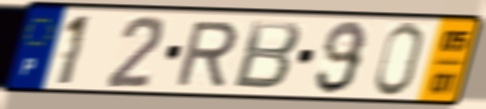0: (372, 19, 426, 99)
1: (57, 12, 94, 86)
2: (104, 12, 170, 90)
9: (312, 18, 369, 97)
B: (230, 18, 305, 93)
R: (172, 19, 241, 88)
